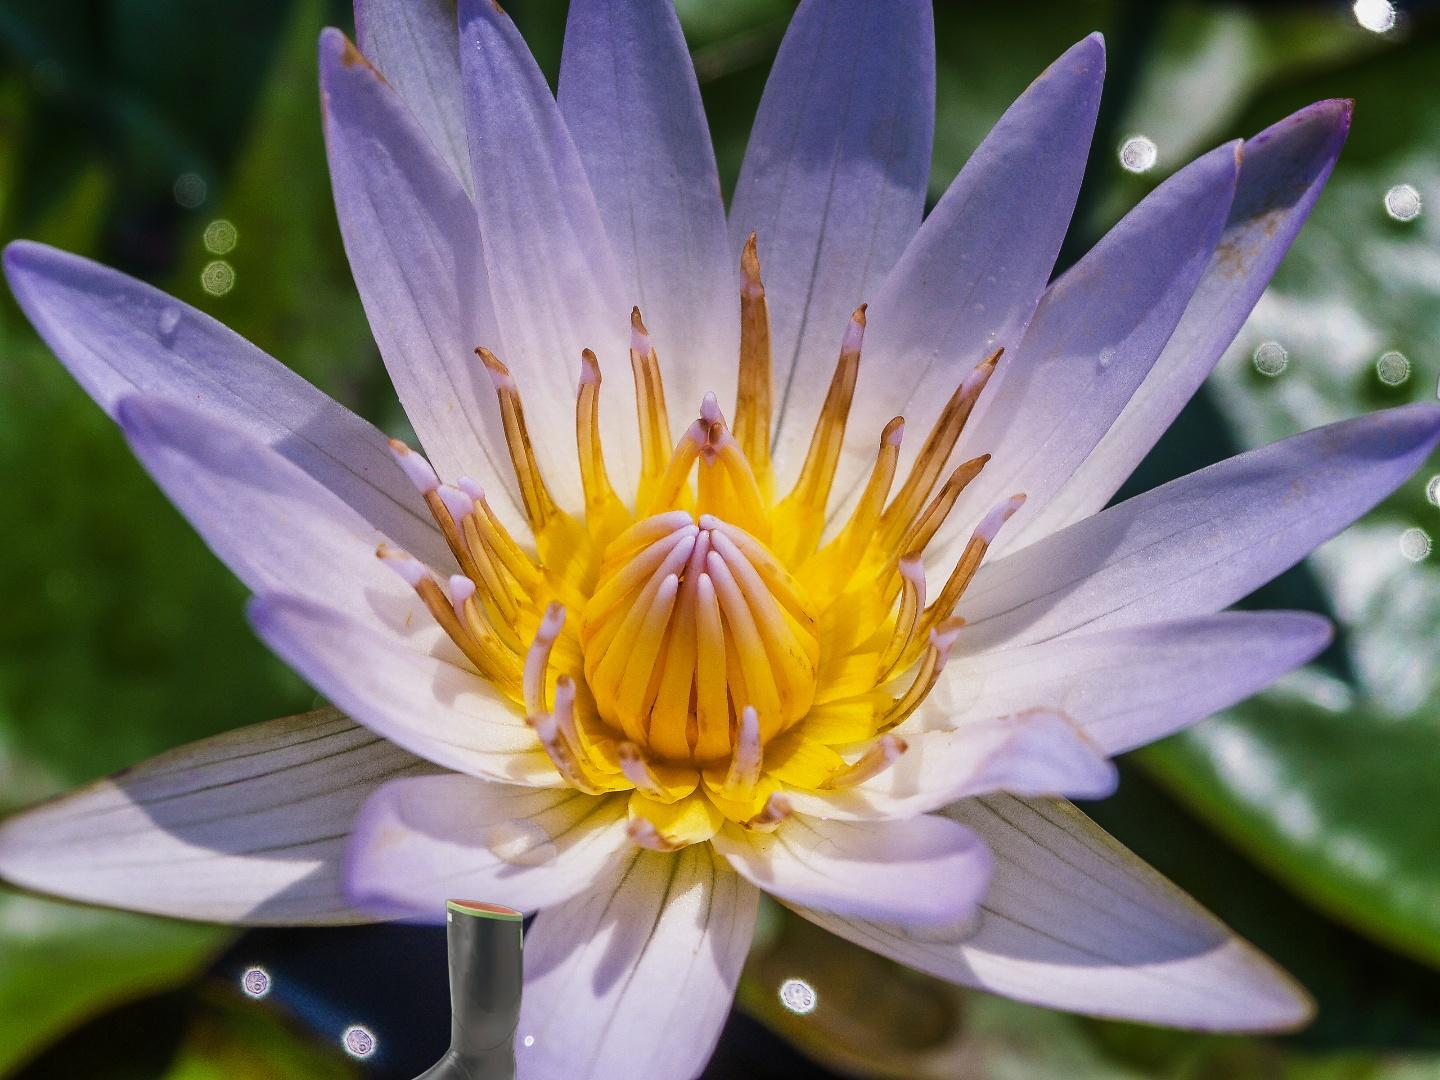plastic-bag: (1426, 317, 1440, 490)
shoes: (384, 897, 526, 1080)
